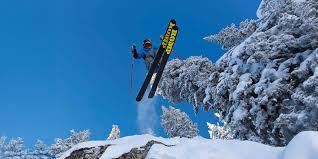skis: (134, 20, 181, 105)
